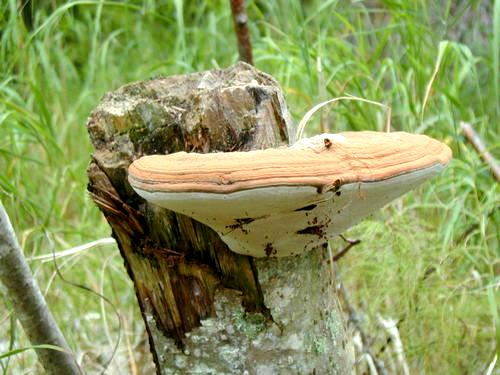Ganoderma - Fruit Body: (125, 128, 452, 260)
